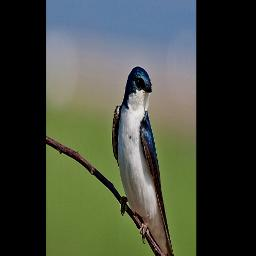Swallow: (111, 63, 181, 256)
